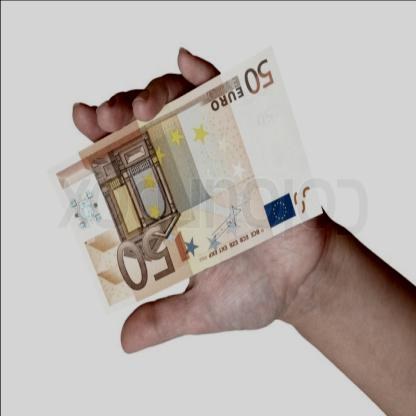euro_banknote: (62, 101, 328, 271)
